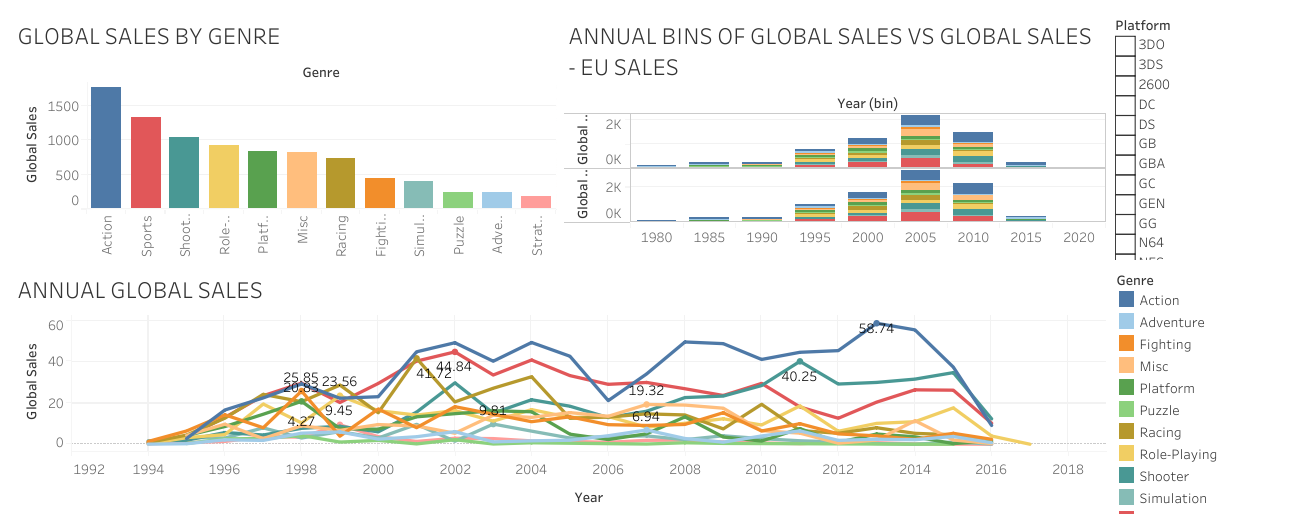

The dashboard page shown, as its layout file describes it:
{"tool":"tableau","page":{"name":"VG SALES DASHBOARD","canvas":[1000,1000],"units":"permille","ordinal":0},"visuals":[{"type":"worksheet","title":"Sheet 2","mark":"Automatic","rows":["Global_Sales"],"cols":["Genre"],"box":[6.9,14.7,423.8,485.3]},{"type":"worksheet","title":"Sheet 3","mark":"Automatic","rows":["Calculation_0340058159808512","Global_Sales"],"cols":["Year (bin)"],"box":[430.7,14.7,423.8,485.3]},{"type":"filter","title":"Sheet 1","param":"[federated.0jzmt9008zh2vx14u5rb21rqpznt].[none:Platform:nk]","box":[854.5,14.7,138.5,424.6]},{"type":"legend","title":"Sheet 1","param":"[federated.0jzmt9008zh2vx14u5rb21rqpznt].[none:Genre:nk]","box":[854.5,439.3,138.5,424.6]},{"type":"worksheet","title":"Sheet 1","mark":"Automatic","rows":["Global_Sales"],"cols":["Year"],"box":[6.9,500,423.8,485.3]},{"type":"worksheet","title":"Sheet 4","mark":"Automatic","rows":["Global_Sales","NA_Sales"],"cols":["Year"],"box":[430.7,500,423.8,485.3]},{"type":"legend","title":"Sheet 4","param":"[federated.0jzmt9008zh2vx14u5rb21rqpznt].[:Measure Names]","box":[854.5,864,138.5,121.3]}]}

Visuals, with their boxes on the dashboard's canvas, which has no fixed pixel size, in thousandths of its width and height (x1, y1, x2, y2). These are canvas units, not pixel positions in the 1295x526 screenshot, which may show the page scaled, cropped or inside an application window:
"Sheet 2" worksheet: <bbox>7, 15, 431, 500</bbox>
"Sheet 3" worksheet: <bbox>431, 15, 854, 500</bbox>
"Sheet 1" filter: <bbox>854, 15, 993, 439</bbox>
"Sheet 1" legend: <bbox>854, 439, 993, 864</bbox>
"Sheet 1" worksheet: <bbox>7, 500, 431, 985</bbox>
"Sheet 4" worksheet: <bbox>431, 500, 854, 985</bbox>
"Sheet 4" legend: <bbox>854, 864, 993, 985</bbox>
